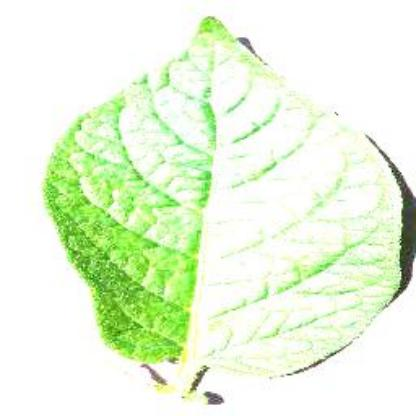Healthy-plant: (45, 27, 406, 387)
